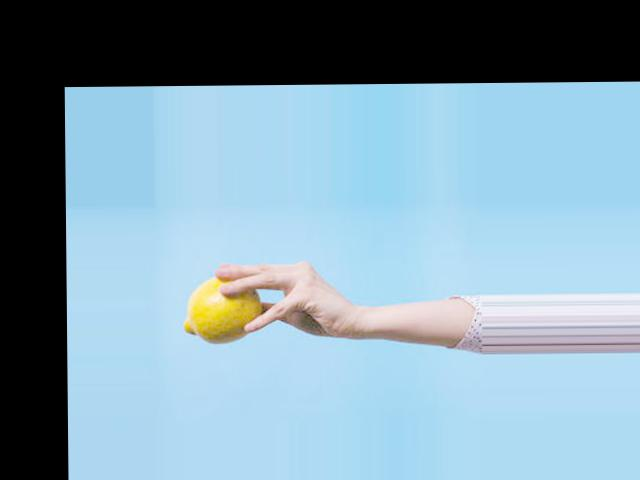lemon: (179, 249, 280, 350)
